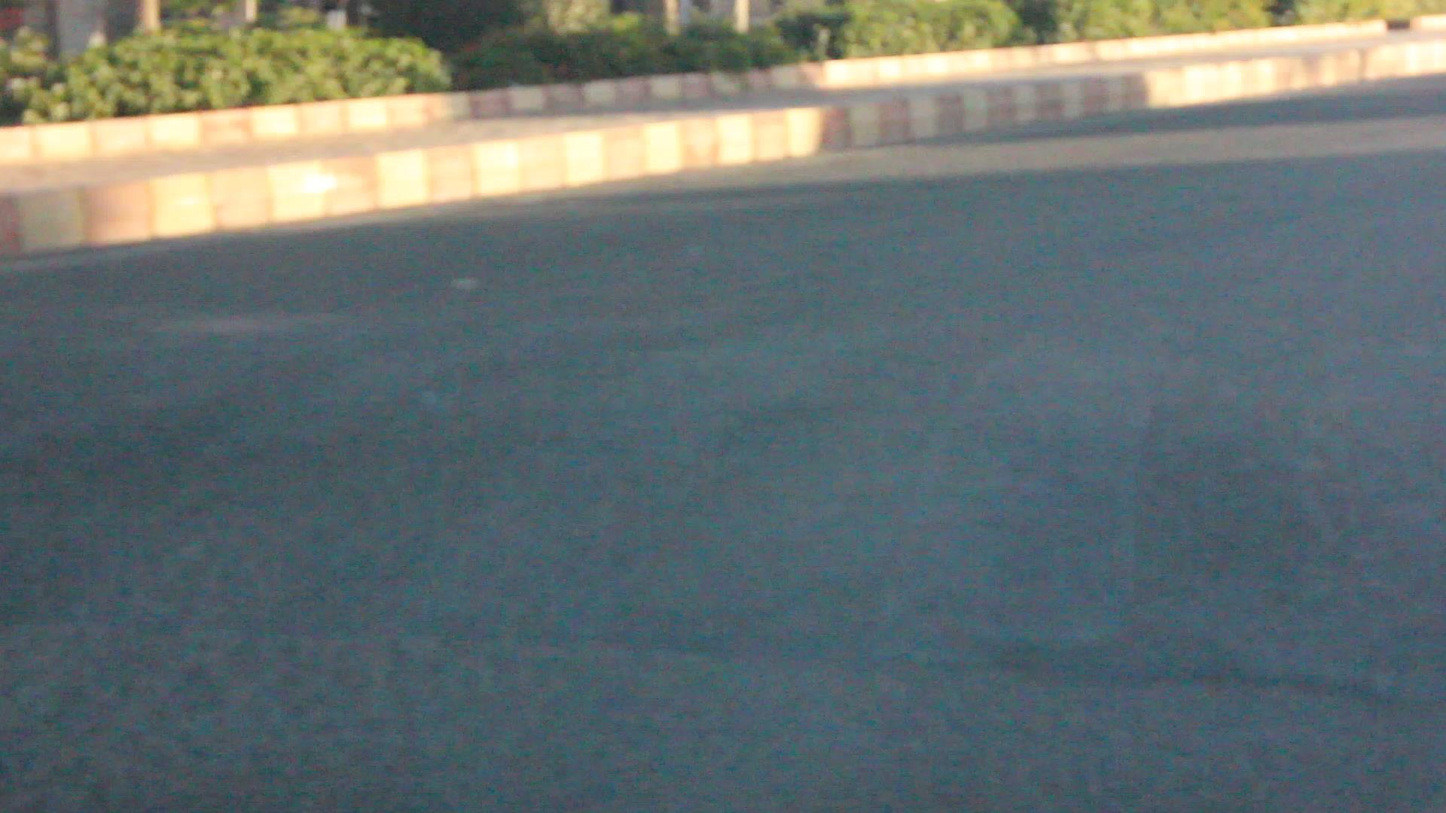Bump: (30, 299, 1446, 646)
